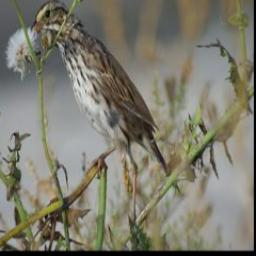Sparrow: (29, 0, 181, 194)
